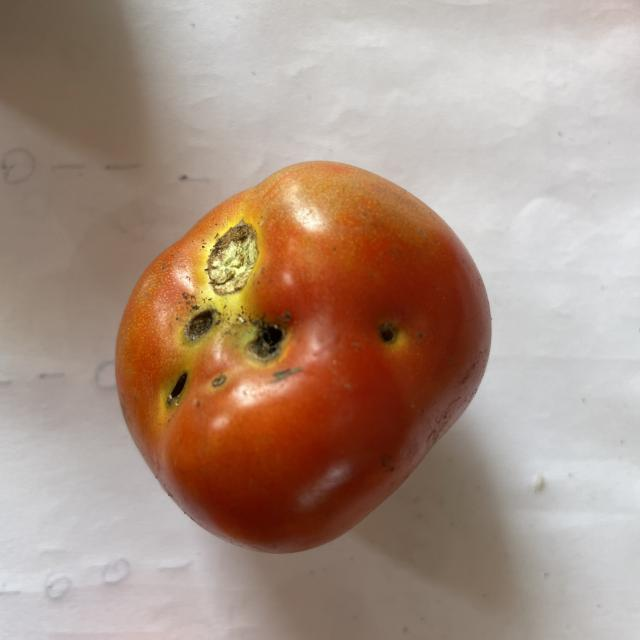fruitworm_bore: (240, 311, 292, 373), (175, 302, 222, 349), (151, 361, 192, 414), (367, 316, 409, 353)
